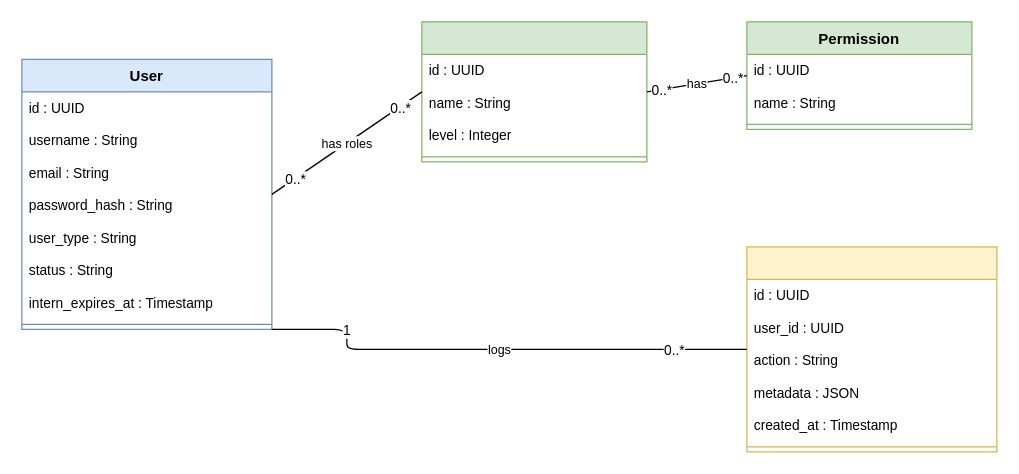
The diagram is 1019 pixels wide and 474 high, and some of its shapes have lost their labels. Here are the shapes that lost their labels. From the top down, the box of each, then its label:
(421, 21, 647, 162): Role
(746, 246, 997, 452): AuditLog
